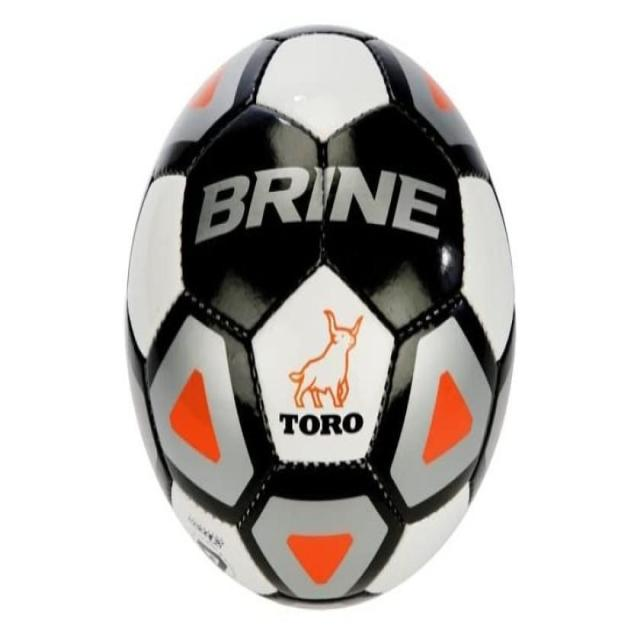Soccer Ball: (129, 23, 516, 610)
